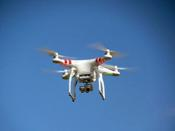UAV: (50, 48, 121, 103)
